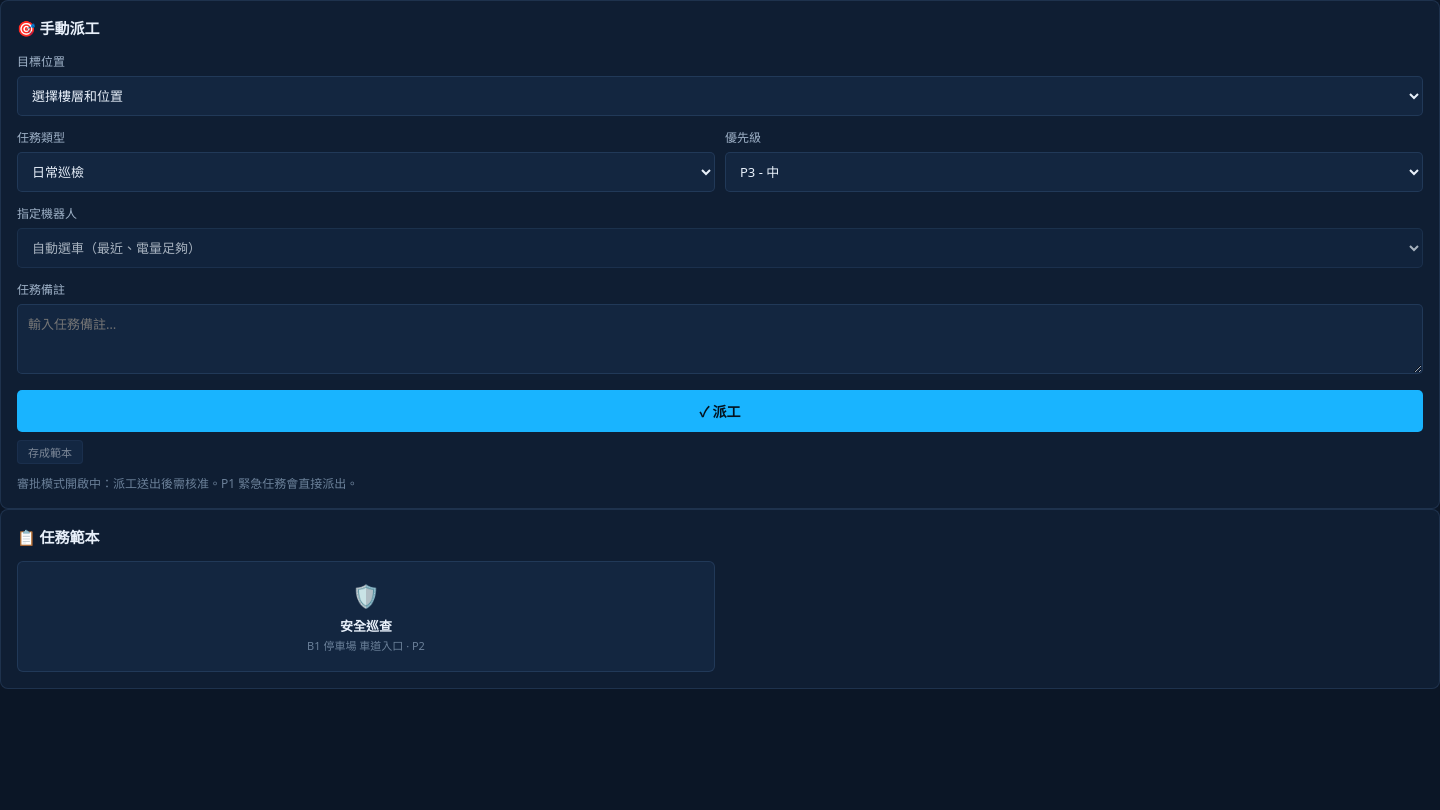
Scenario: 手動派工與任務範本（T-20） › 點範本帶入表單（不直接建單）
Click the button "🛡️ 安全巡查 B1 停車場 車道入口 · P2" at (366, 616), box top-left (17, 561), bottom-right (715, 672)
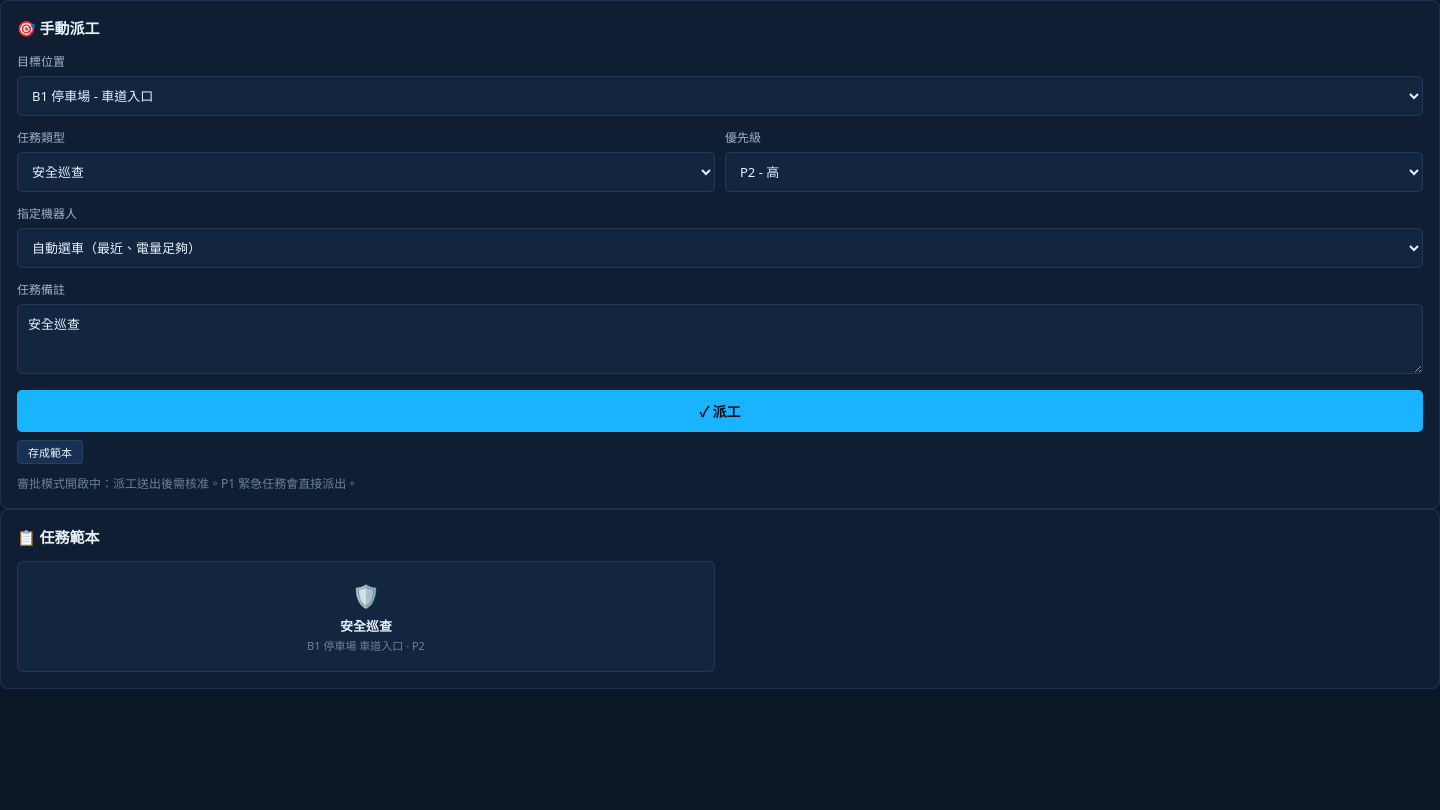
Check: the dropdown labelled "目標位置" shows "B1 停車場 - 車道入口", box top-left (17, 76), bottom-right (1423, 116)
Check: the dropdown labelled "優先級" shows "P2 - 高", box top-left (725, 152), bottom-right (1423, 192)
Check: the dropdown labelled "任務類型" shows "安全巡查", box top-left (17, 152), bottom-right (715, 192)
